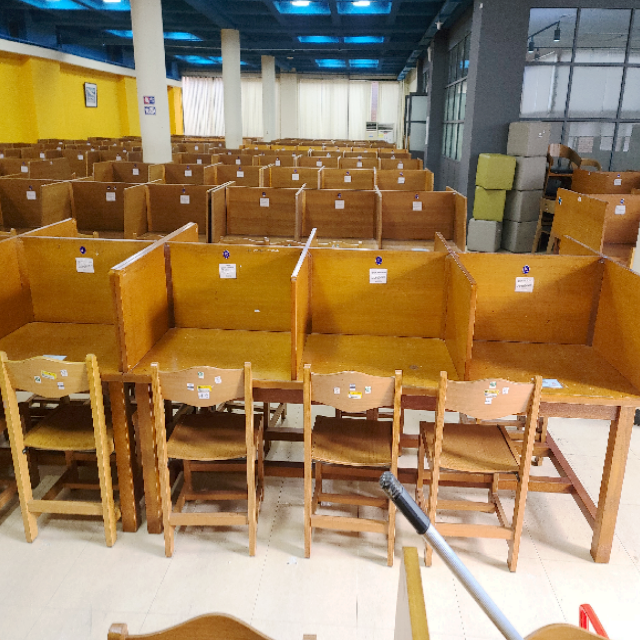empty: (308, 216, 474, 437), (140, 222, 297, 442), (483, 220, 640, 429)
